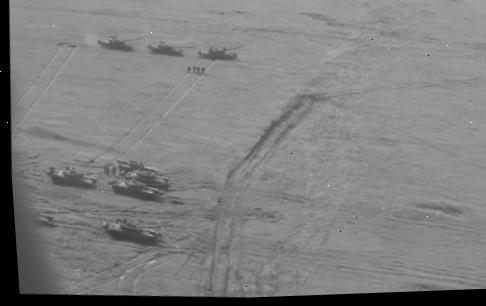tank: (110, 157, 181, 192), (99, 214, 161, 246), (45, 162, 98, 189), (92, 26, 144, 51), (194, 39, 246, 62), (150, 30, 193, 57)
